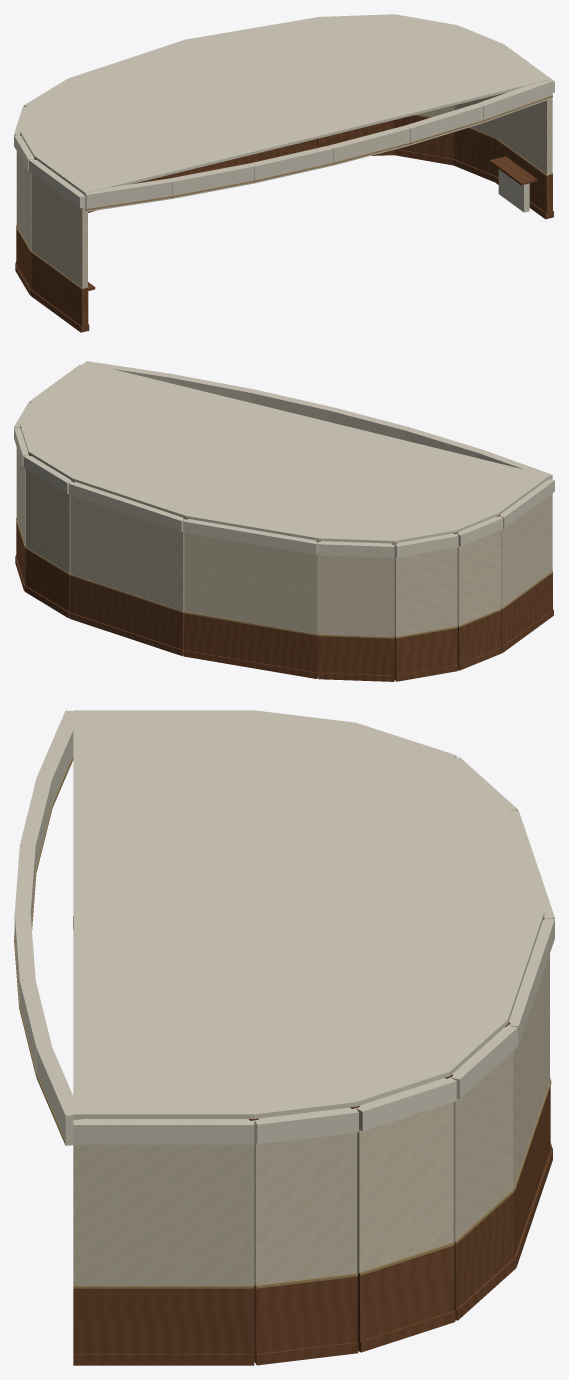
The model's file is AST-ARR-004.glb.
The picture shows the model from 3 angles, top to bottom: view 1: azimuth 30°, elevation 25°; view 2: azimuth 150°, elevation 25°; view 3: azimuth 270°, elevation 25°; orthographic projection. The views are drawn at different scales.
Visible parts, largest first — view 1: Reception_FanCeiling, Reception_StoneWall_0, Reception_StoneWall_9, Reception_LowerProfile_0, Reception_ProfiledValance_0, Reception_ProfiledValance_1, Reception_ProfiledValance_2, Reception_ProfiledValance_3, Reception_ProfiledValance_4, Reception_ProfiledValance_5, Reception_LowerProfile_8, Reception_LowerProfile_9 (+11 smaller); view 2: Reception_FanCeiling, Reception_StoneWall_4, Reception_StoneWall_5, Reception_StoneWall_3, Reception_StoneWall_2, Reception_LowerProfile_4, Reception_LowerProfile_5, Reception_StoneWall_0, Reception_StoneWall_1, Reception_StoneWall_6, Reception_LowerProfile_3, Reception_LowerProfile_2 (+21 smaller); view 3: Reception_FanCeiling, Reception_StoneWall_9, Reception_StoneWall_8, Reception_StoneWall_7, Reception_LowerProfile_9, Reception_StoneWall_6, Reception_LowerProfile_8, Reception_LowerProfile_7, Reception_StoneWall_5, Reception_Crown_9, Reception_LowerProfile_6, Reception_Crown_8 (+15 smaller).
Boxes of the visible parts, <box> form: Reception_FanCeiling: <box>20,14,549,194</box>; Reception_StoneWall_0: <box>31,173,87,288</box>; Reception_StoneWall_9: <box>496,92,552,175</box>; Reception_LowerProfile_0: <box>31,253,88,326</box>; Reception_ProfiledValance_0: <box>84,178,172,211</box>; Reception_ProfiledValance_1: <box>169,163,254,198</box>; Reception_ProfiledValance_2: <box>251,145,333,183</box>; Reception_ProfiledValance_3: <box>330,125,409,165</box>; Reception_ProfiledValance_4: <box>405,103,482,145</box>; Reception_ProfiledValance_5: <box>478,80,552,122</box>; Reception_LowerProfile_8: <box>454,128,495,175</box>; Reception_LowerProfile_9: <box>496,140,552,213</box>; Reception_FanCeiling: <box>20,362,549,543</box>; Reception_StoneWall_4: <box>184,532,318,634</box>; Reception_StoneWall_5: <box>70,495,184,611</box>; Reception_StoneWall_3: <box>318,555,394,636</box>; Reception_StoneWall_2: <box>394,547,457,636</box>; Reception_LowerProfile_4: <box>184,613,318,672</box>; Reception_LowerProfile_5: <box>70,576,183,649</box>; Reception_StoneWall_0: <box>501,493,552,608</box>; Reception_StoneWall_1: <box>457,530,501,626</box>; Reception_StoneWall_6: <box>26,469,70,573</box>; Reception_LowerProfile_3: <box>318,636,394,675</box>; Reception_LowerProfile_2: <box>394,628,457,675</box>; Reception_FanCeiling: <box>73,710,544,1118</box>; Reception_StoneWall_9: <box>73,1144,254,1285</box>; Reception_StoneWall_8: <box>254,1132,357,1285</box>; Reception_StoneWall_7: <box>357,1102,453,1273</box>; Reception_LowerProfile_9: <box>73,1288,254,1354</box>; Reception_StoneWall_6: <box>453,1051,513,1242</box>; Reception_LowerProfile_8: <box>254,1276,357,1353</box>; Reception_LowerProfile_7: <box>357,1245,453,1341</box>; Reception_StoneWall_5: <box>513,954,549,1188</box>; Reception_Crown_9: <box>73,1119,254,1144</box>; Reception_LowerProfile_6: <box>454,1193,513,1309</box>; Reception_Crown_8: <box>254,1107,358,1144</box>.
Size of the model in its own units: 13.5 by 3.77 by 7.47.
5 materials, 4 textured.
